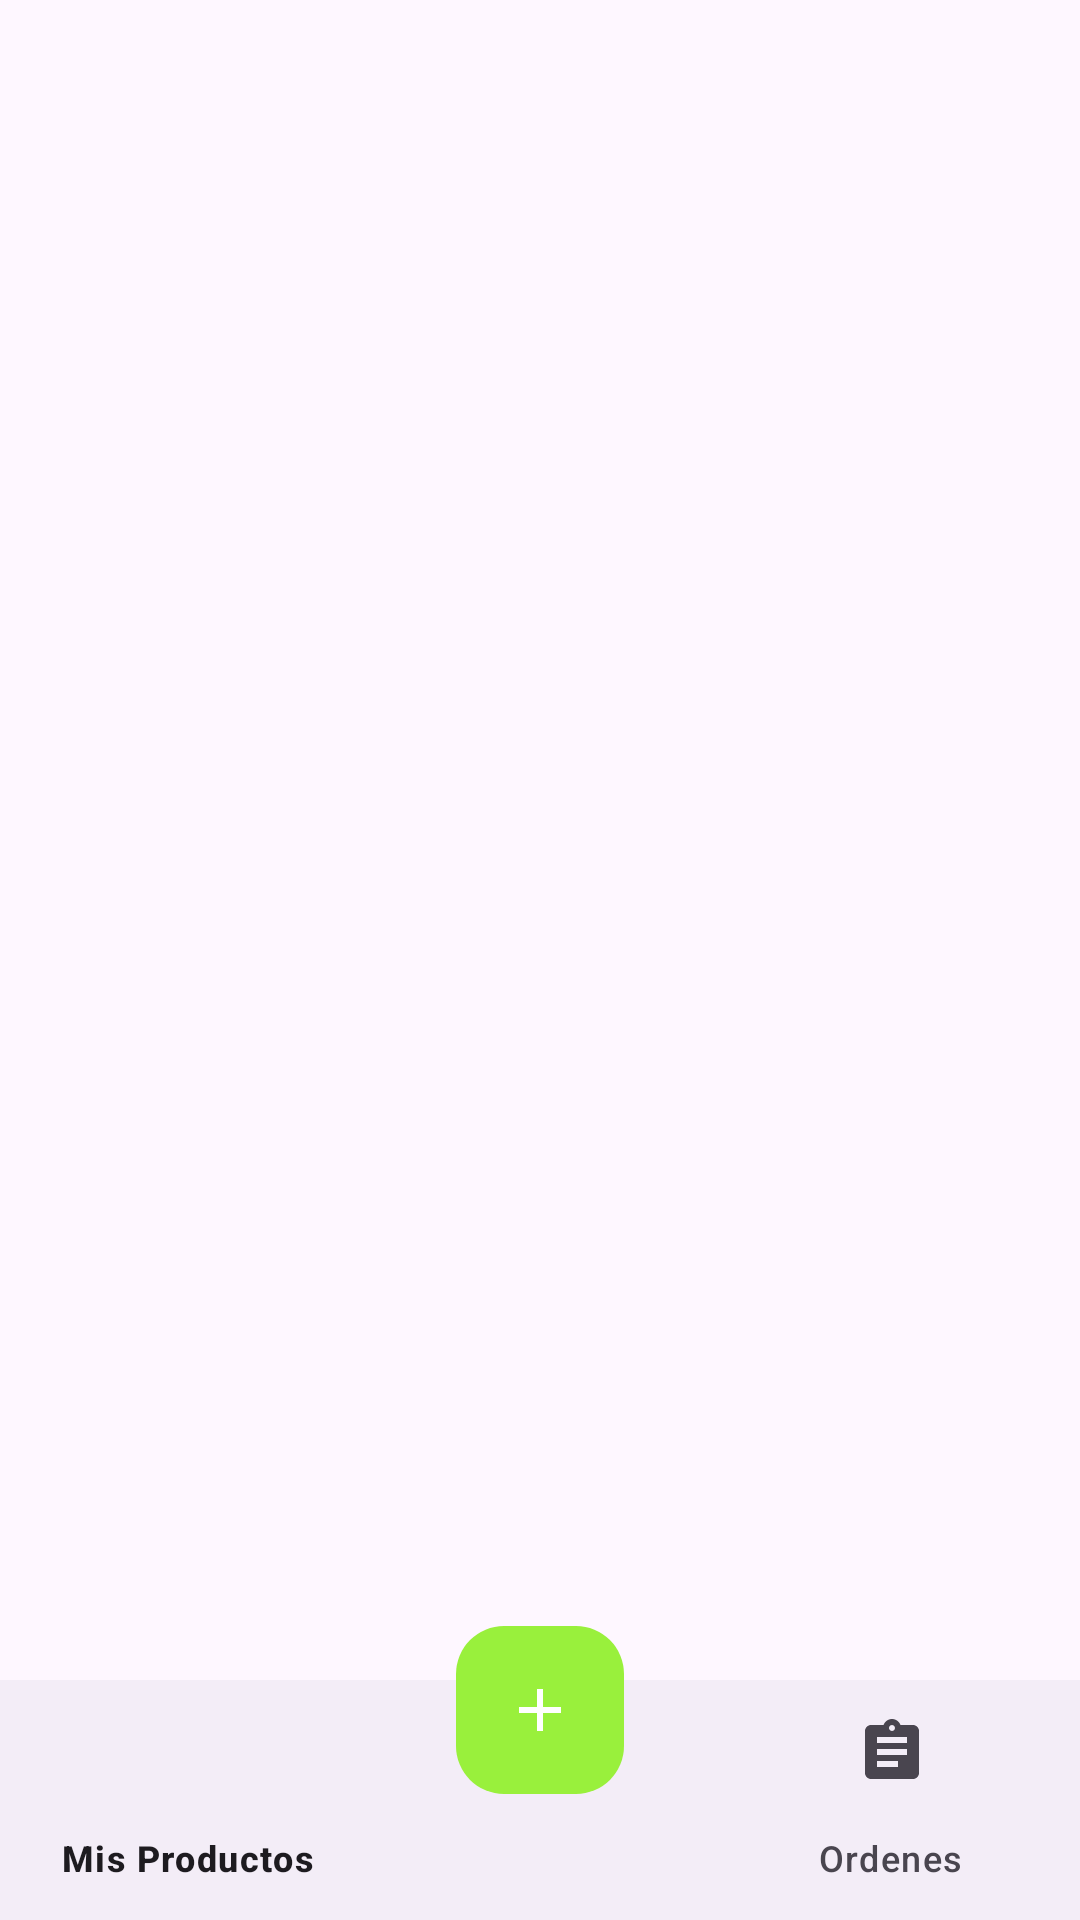

Screen size 1080 × 1920. Icon name, then its box in pixels as [left=x1, top=y1, right=x2, bottom=y2]:
add: [left=456, top=1662, right=624, bottom=1794]
